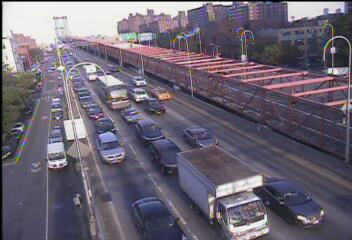neg: (63, 183, 84, 212)
